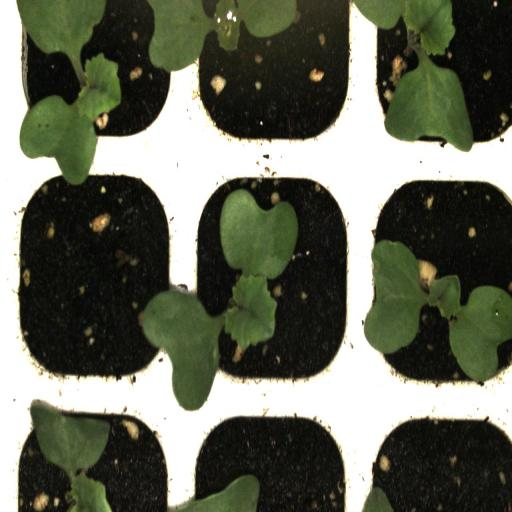noseedling: (3, 161, 184, 397)
seedling: (184, 159, 358, 399), (359, 157, 512, 398), (4, 0, 182, 160), (184, 0, 362, 153), (359, 0, 512, 153)
